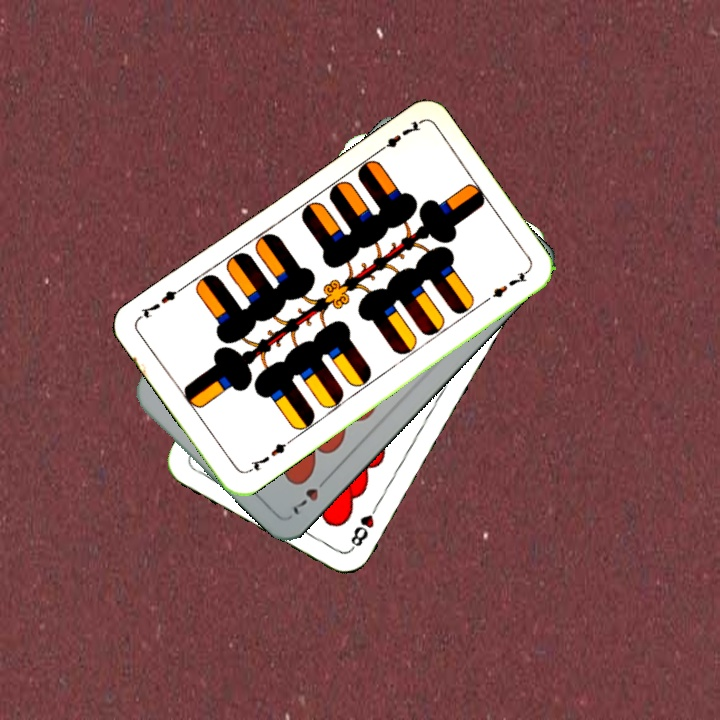E7: (242, 436, 294, 476), (372, 117, 424, 157)
H7: (289, 471, 332, 518)
H8: (346, 498, 382, 553)
